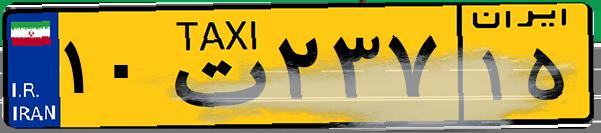0: (110, 28, 158, 98)
1: (57, 26, 110, 100), (475, 38, 525, 113)
2: (270, 28, 330, 110)
3: (330, 28, 385, 110)
5: (525, 38, 570, 115)
7: (385, 28, 445, 110)
ت: (158, 12, 270, 120)
